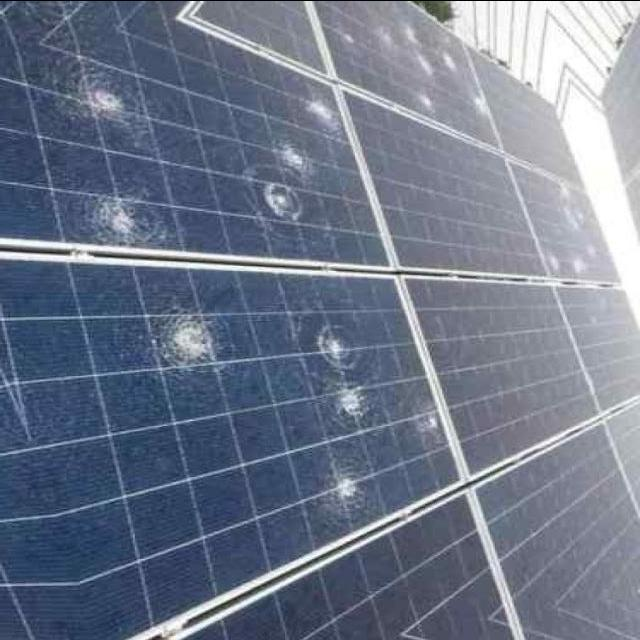cracked: (1, 263, 466, 586), (0, 16, 393, 270), (310, 0, 497, 141), (506, 158, 640, 303)
